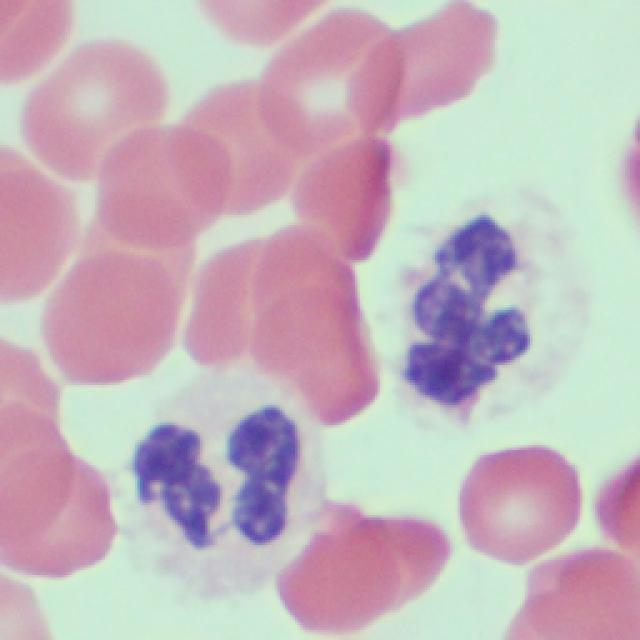RBC: (34, 214, 182, 387), (254, 228, 380, 417), (273, 495, 432, 634), (260, 8, 402, 159), (26, 36, 160, 182), (194, 234, 336, 367), (448, 433, 580, 572), (185, 76, 312, 211), (274, 130, 398, 264), (96, 122, 224, 246), (362, 0, 502, 112), (0, 455, 120, 575), (0, 142, 70, 320), (507, 548, 638, 640), (0, 397, 69, 534), (190, 0, 329, 50), (0, 0, 68, 88), (0, 573, 54, 640)
WBC: (412, 214, 572, 420), (130, 393, 316, 564)
